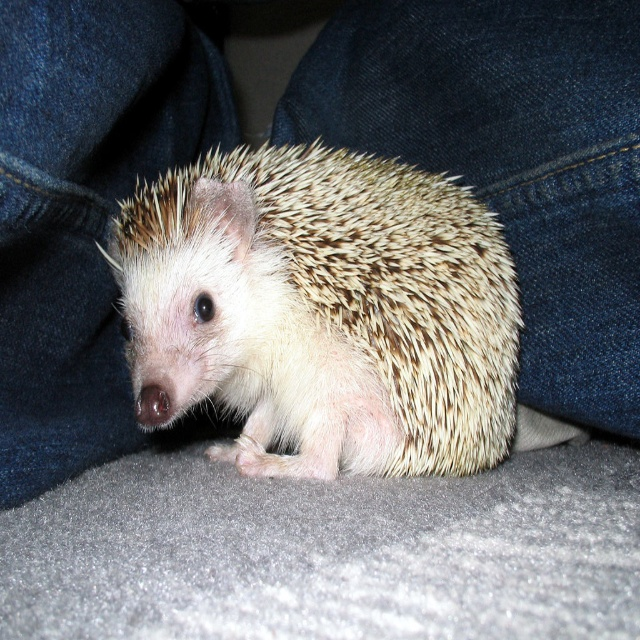Hedgehog: (93, 132, 526, 477)
